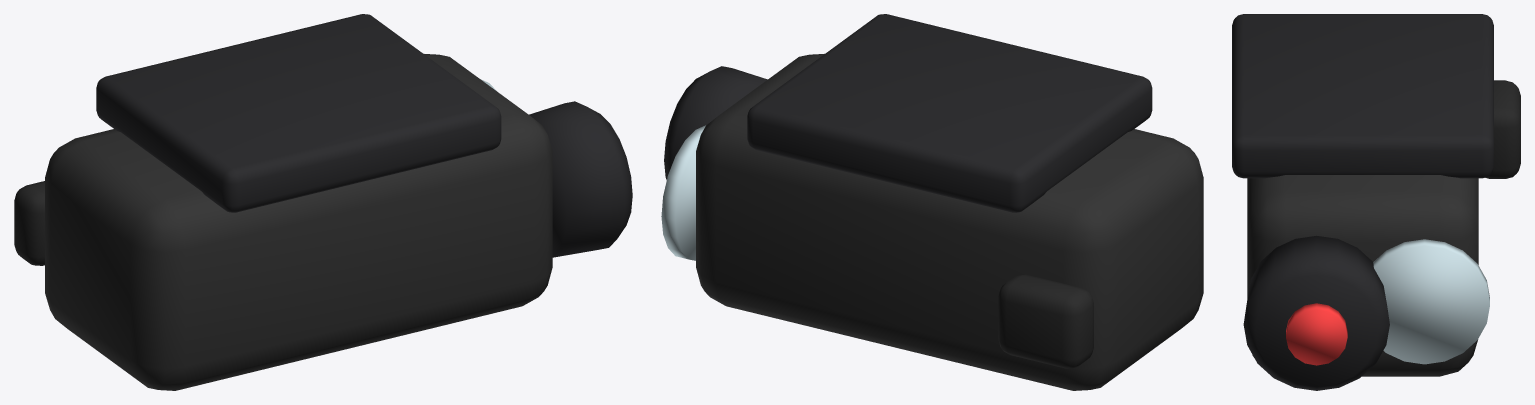
Rendered from SM_Laser.glb.
3 views of the same model, side by side, from view 1: azimuth 30°, elevation 25°; view 2: azimuth 150°, elevation 25°; view 3: azimuth 270°, elevation 25° (orthographic). The views are drawn at different scales.
Parts seen in each view (by area): view 1: SM_Laser; view 2: SM_Laser; view 3: SM_Laser.
Boxes of the visible parts, x1,y1,x2,y2 form: SM_Laser: (14,14,632,390); SM_Laser: (661,14,1203,390); SM_Laser: (1232,14,1520,390).
Bounding box in the file's own units: 0.072 × 0.031 × 0.0375.
